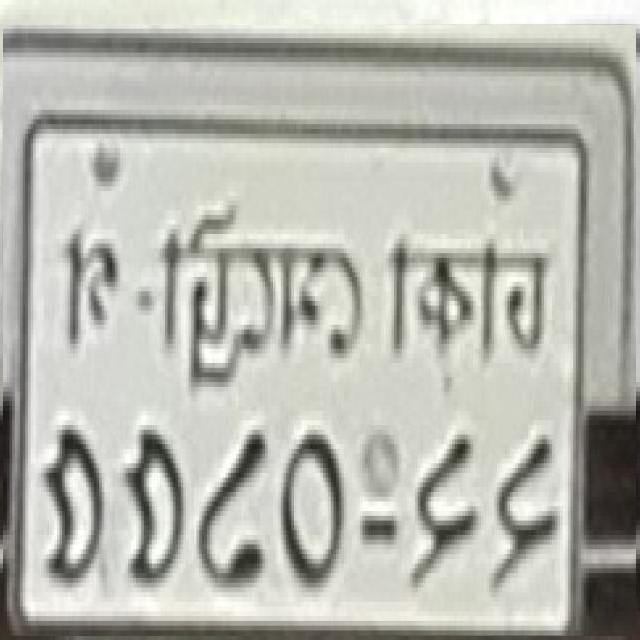numberplate: (3, 25, 636, 636)
